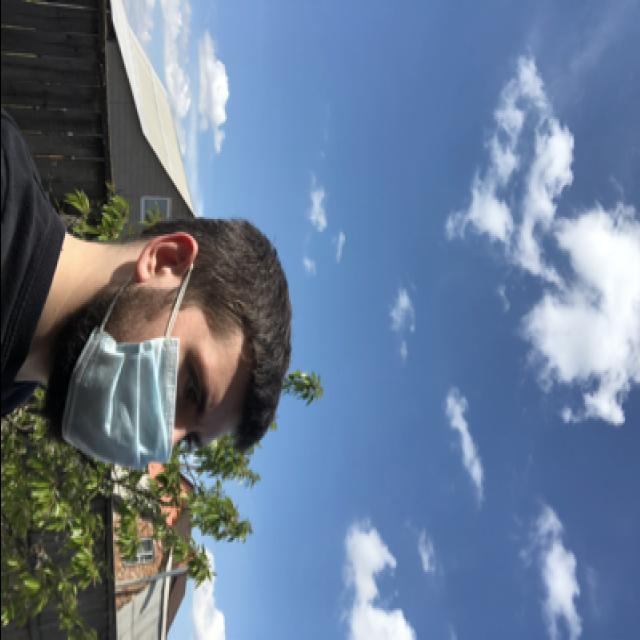with_mask: (54, 322, 222, 466)
